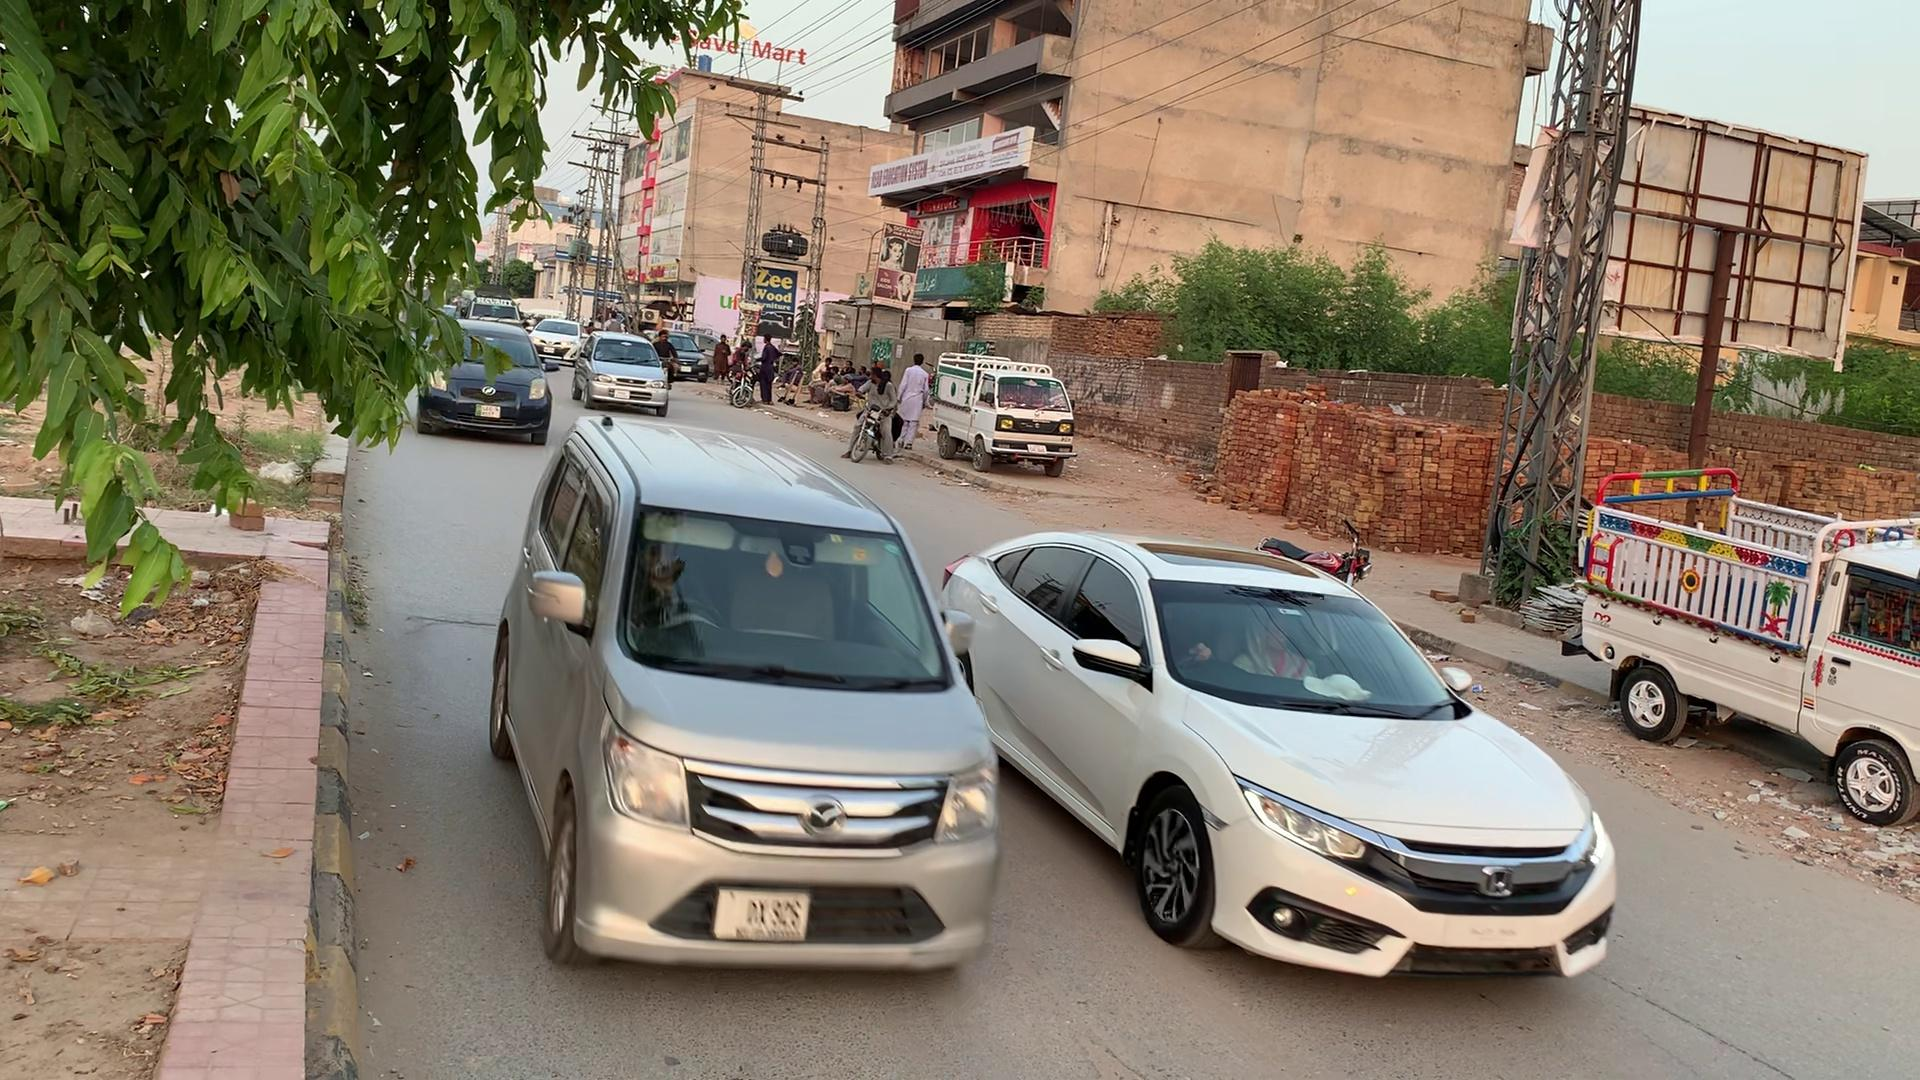windshield: (615, 487, 968, 707), (1141, 560, 1487, 709)
